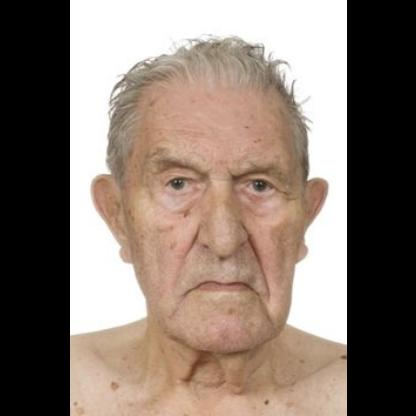Male: (87, 81, 327, 354)
